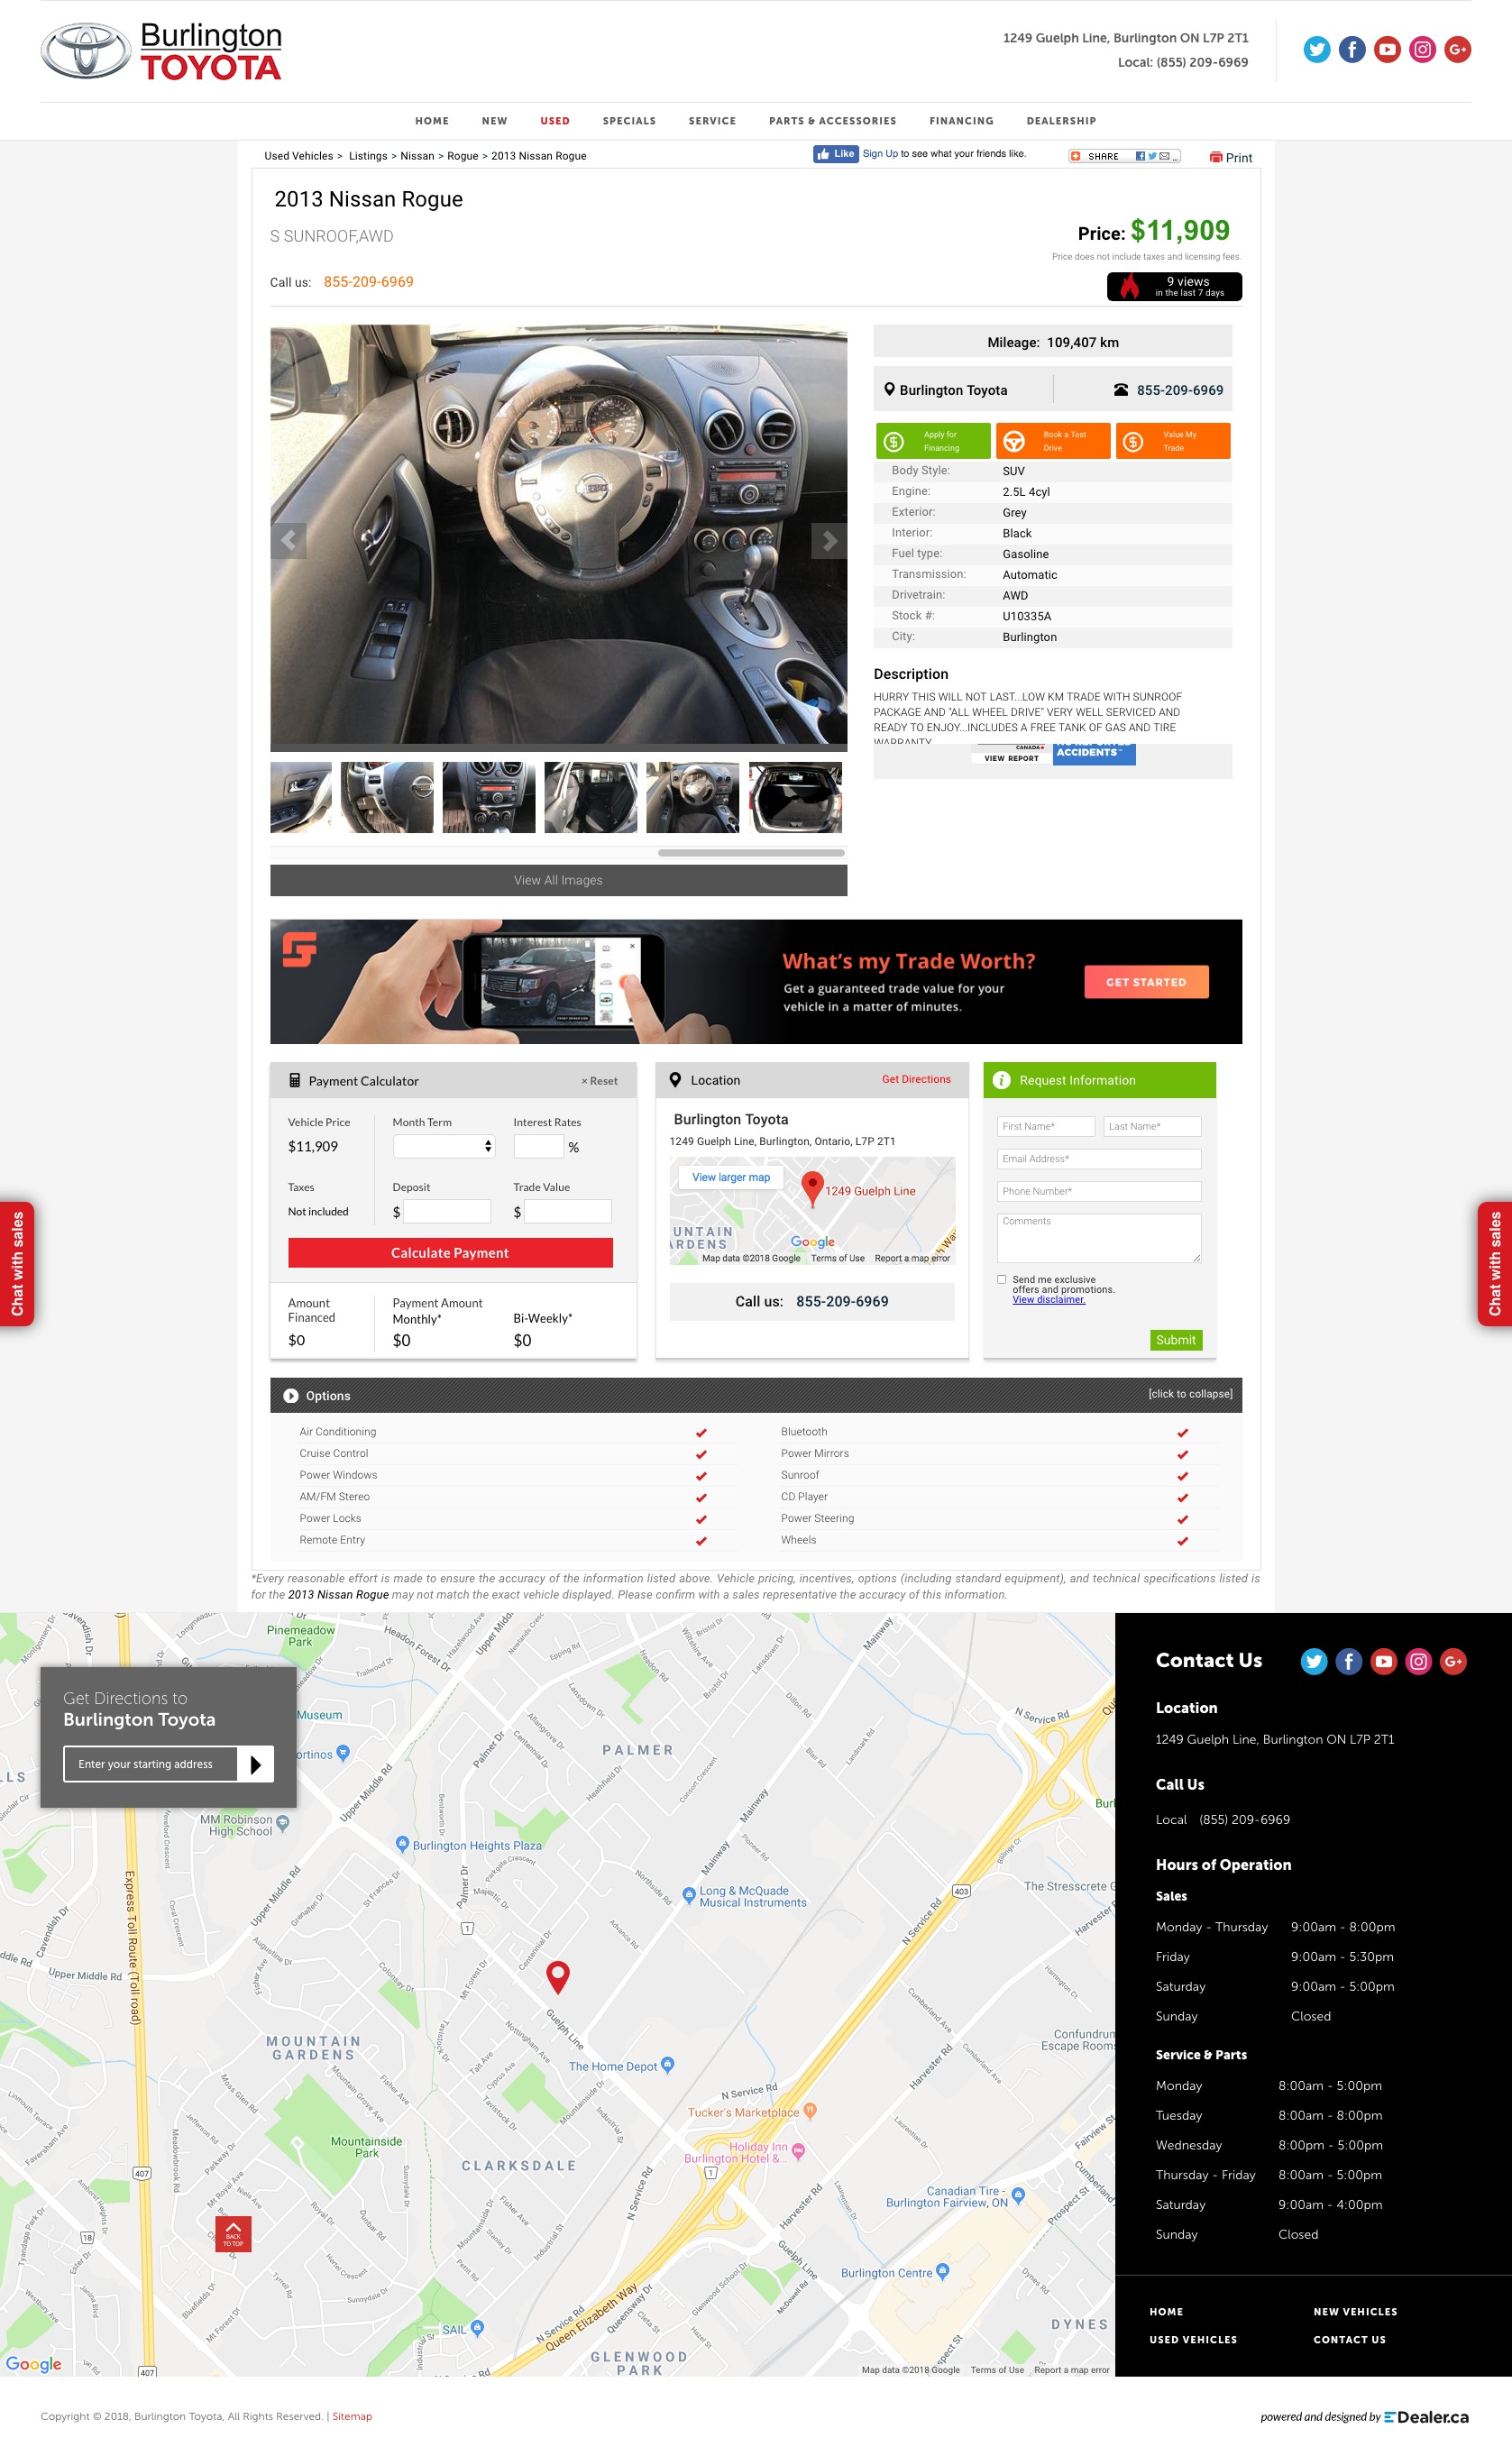car: (810, 523, 849, 560)
